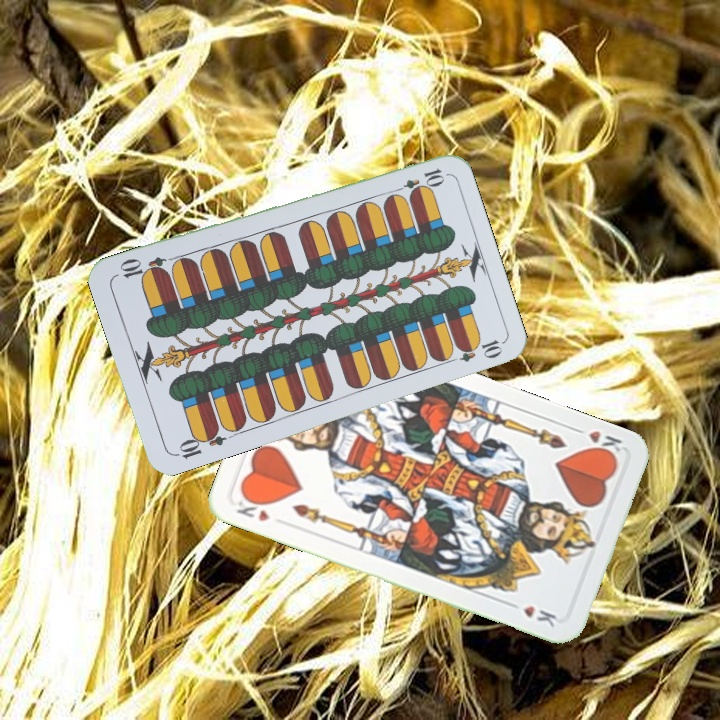E10: (170, 423, 228, 462), (389, 164, 447, 197)
HK: (569, 423, 625, 462), (232, 492, 273, 525)
